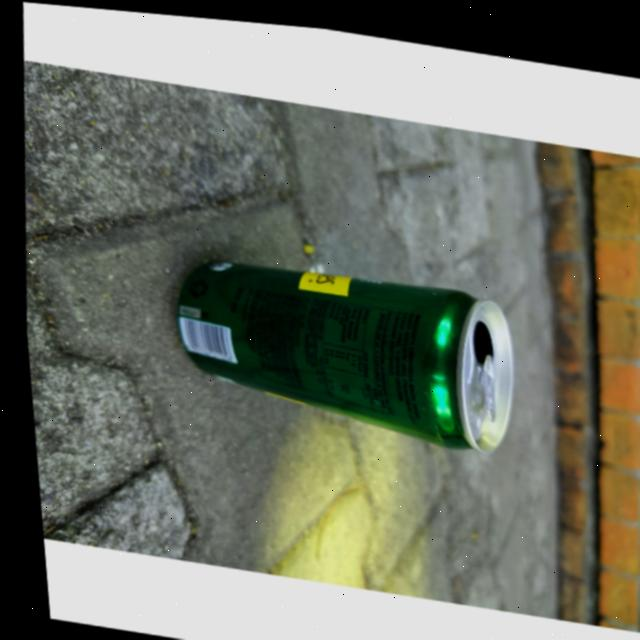Schweppes: (157, 239, 518, 441)
